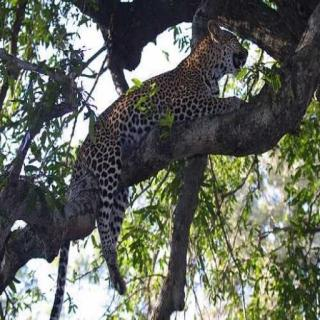Leopard: (61, 11, 260, 315)
